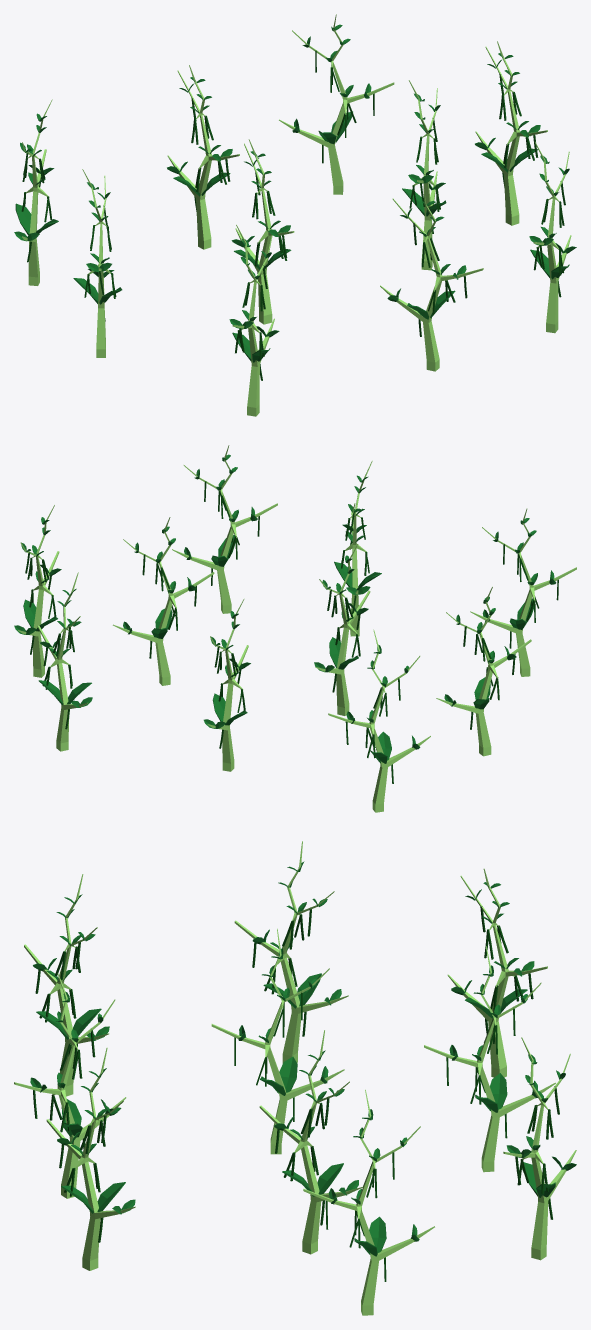
Rendered from Green beans3.fbx.
3 views of the same model, one above another, from view 1: azimuth 30°, elevation 25°; view 2: azimuth 150°, elevation 25°; view 3: azimuth 270°, elevation 25° (orthographic). The views are drawn at different scales.
Visible parts, largest first — view 1: Cube; view 2: Cube; view 3: Cube.
Part boxes in pixels (box(x1,y1,x2,y2)): Cube: box(14, 14, 576, 416); Cube: box(14, 445, 576, 812); Cube: box(14, 841, 576, 1315).
Size of the model in its own units: 86.03 by 31.14 by 74.13.
